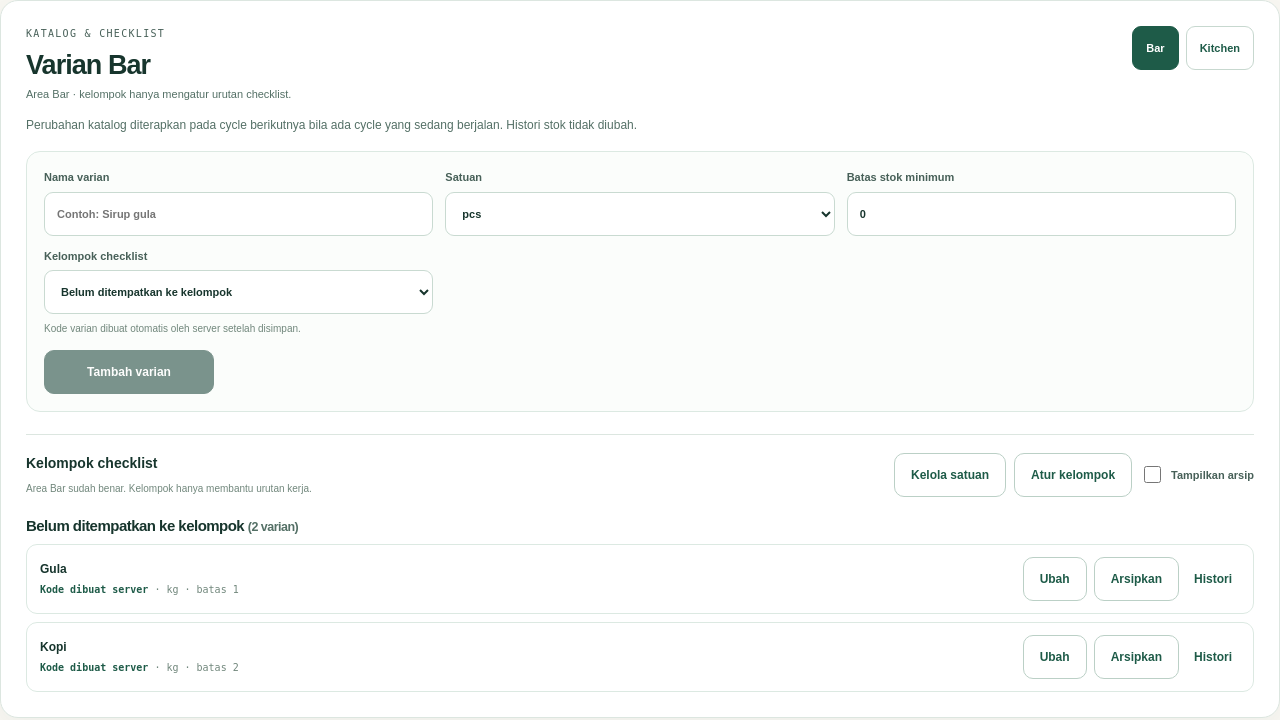
Test: CatalogManager › lets supervisors inspect unit history from the shared manager surface
Expected: the text "Gula" is shown, [40,562,67,576]
Click the button "Kelola satuan" at {"x": 950, "y": 475}, box [894,453,1006,497]
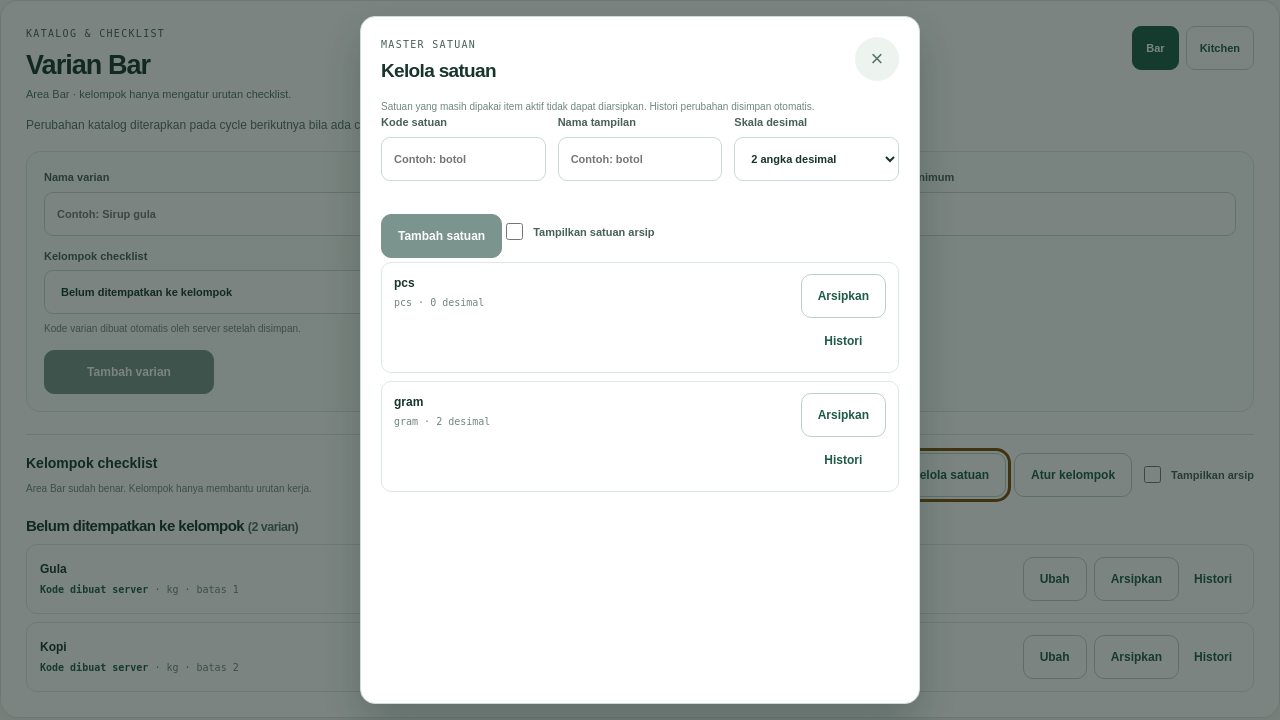
Click the 1st button "Histori" at {"x": 843, "y": 341}, box [816,321,870,361]
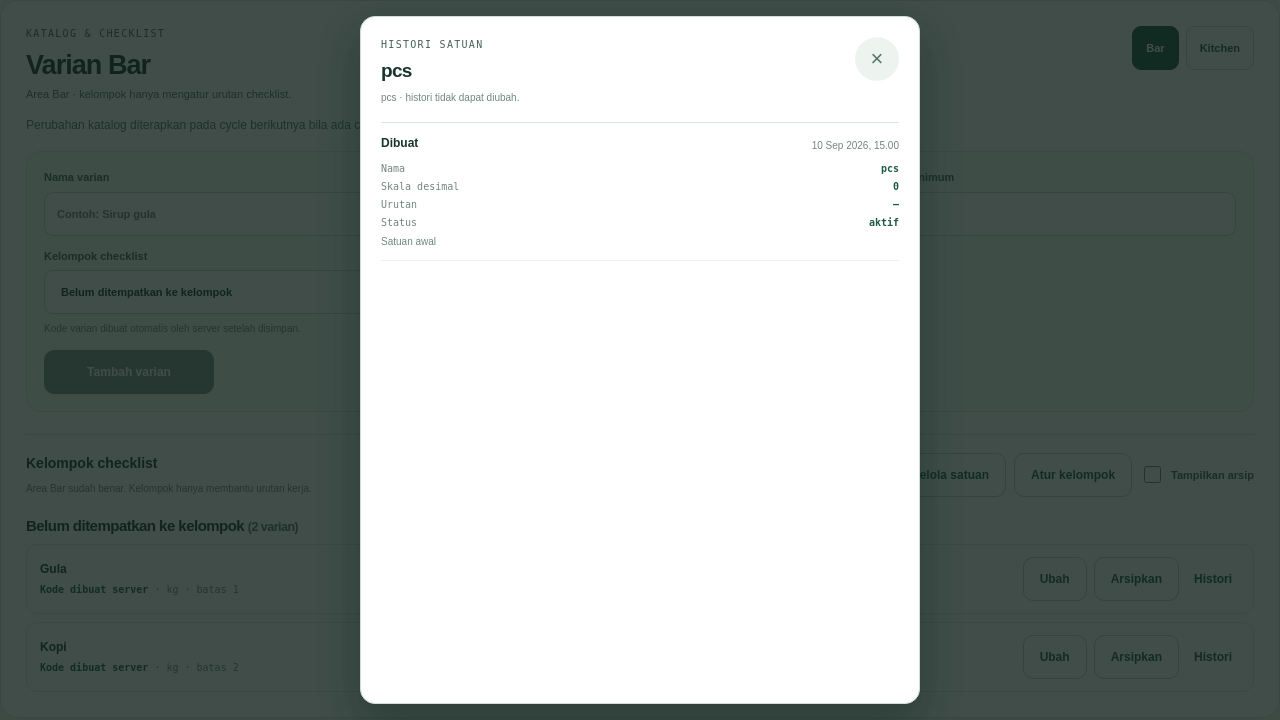
Result: the heading "pcs" is shown at [381,60,412,81]
Result: the text "Satuan awal" is shown at [381,236,436,247]
